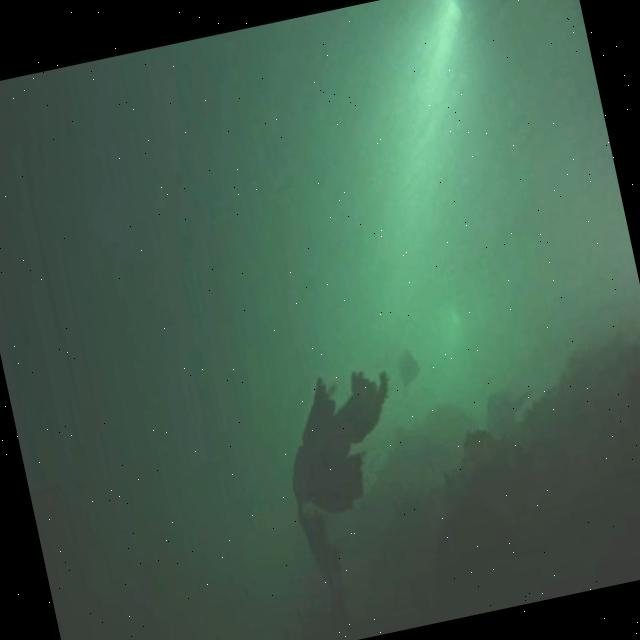fish: (391, 344, 426, 394)
